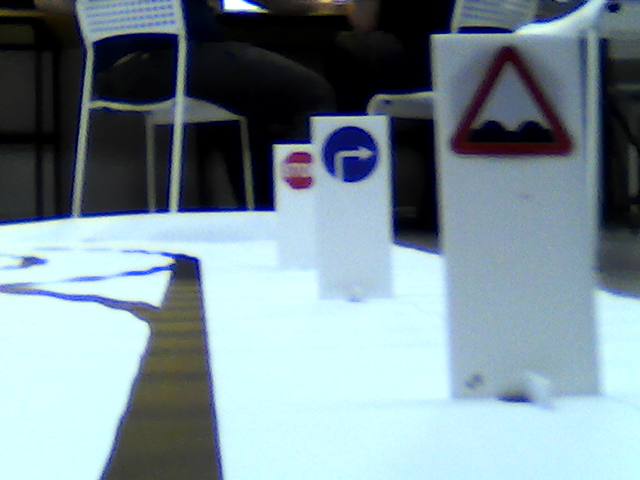Nerov: (451, 43, 575, 163)
Right: (322, 125, 382, 179)
Stop: (283, 148, 313, 188)
